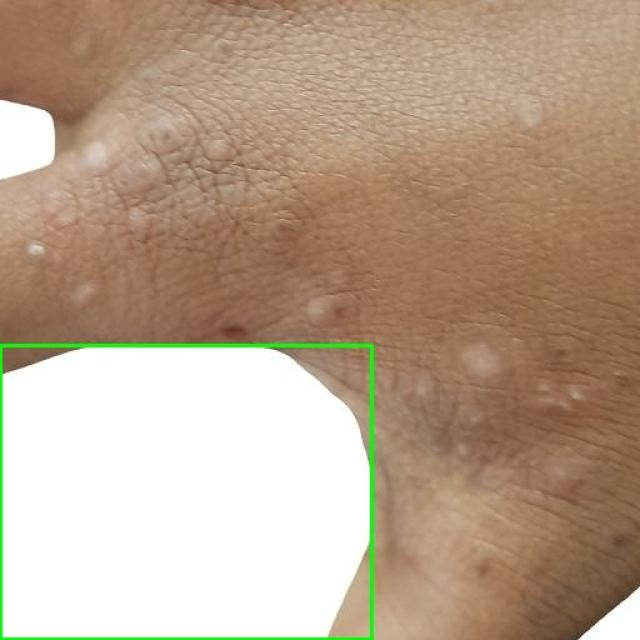Scabies: (0, 345, 371, 639)
